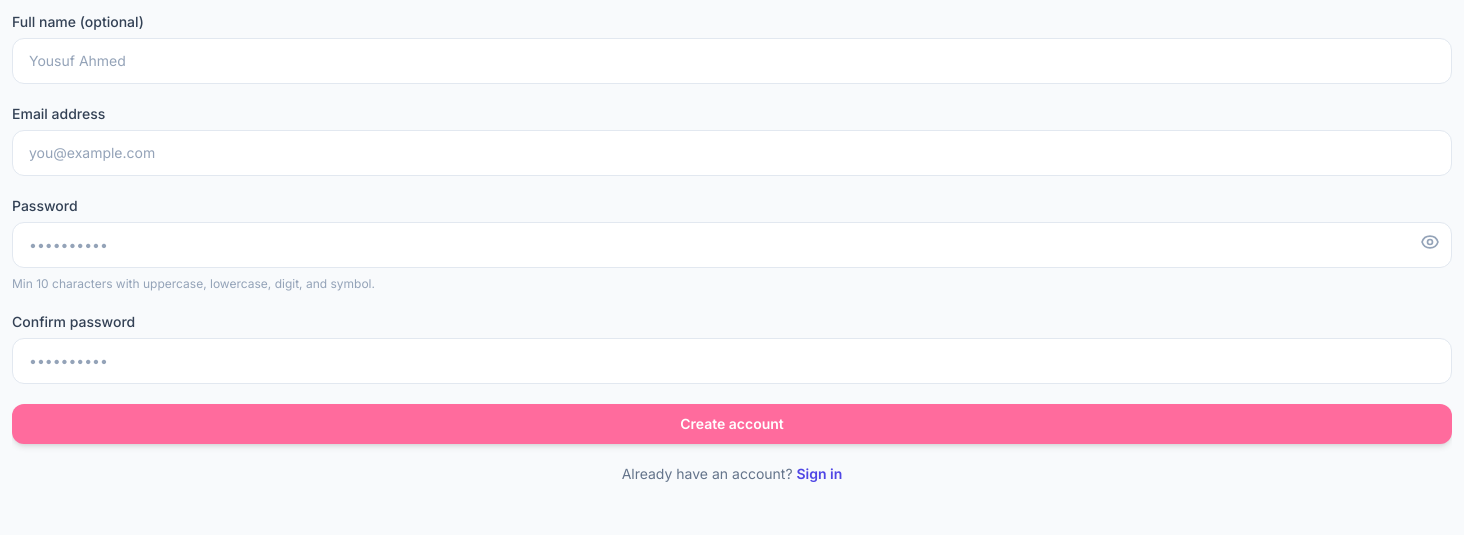
it: RegisterForm › register form shows strength meter on password input
Type "weakpassword" into the password field labelled "Password" at (732, 245), box 12,222 -> 1452,268
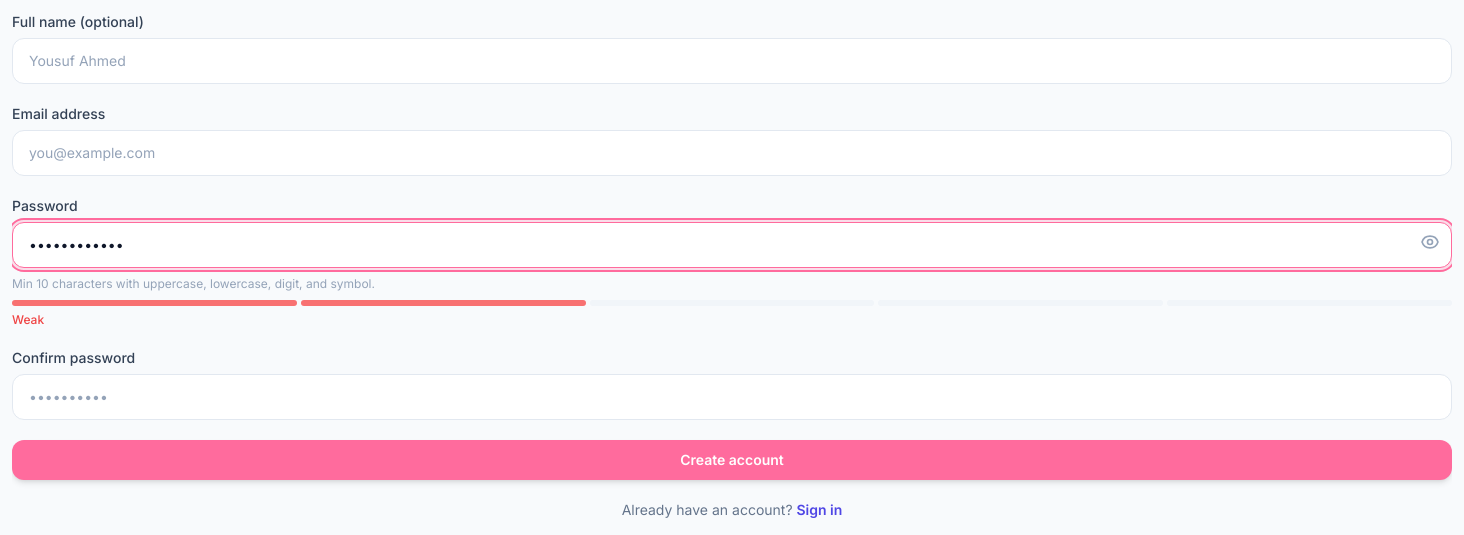
Now the text "Weak" is shown, box 12,312 -> 44,327
